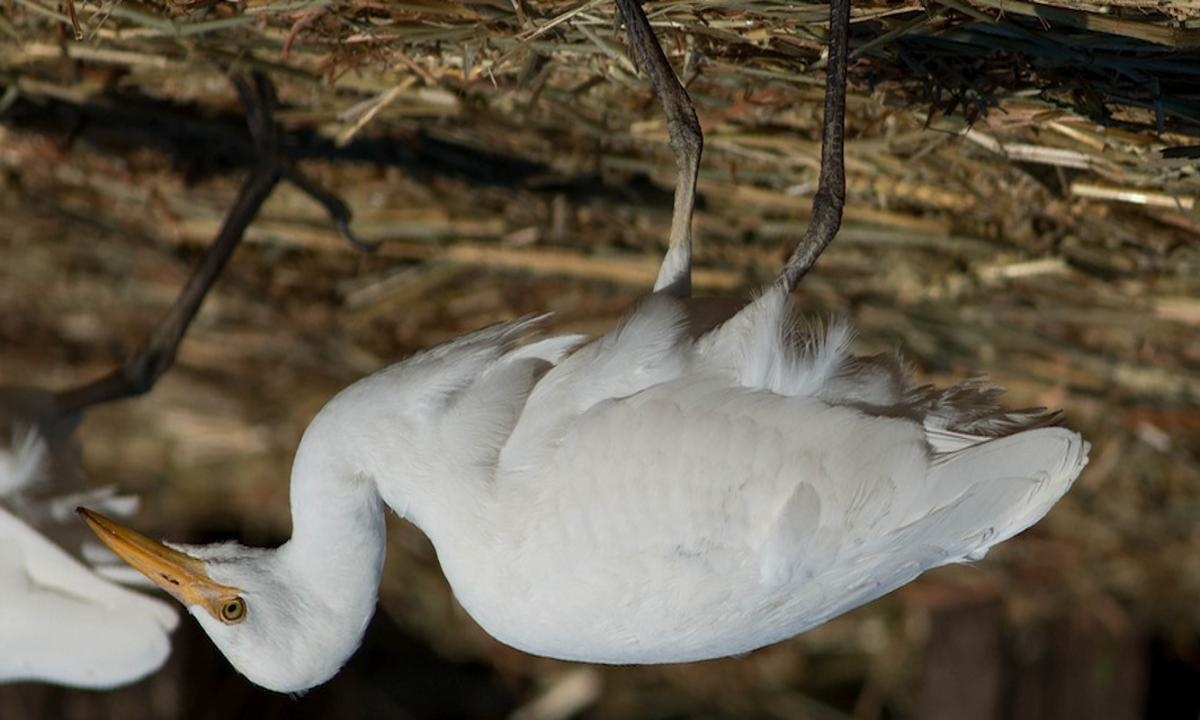egret: (60, 1, 1086, 697)
